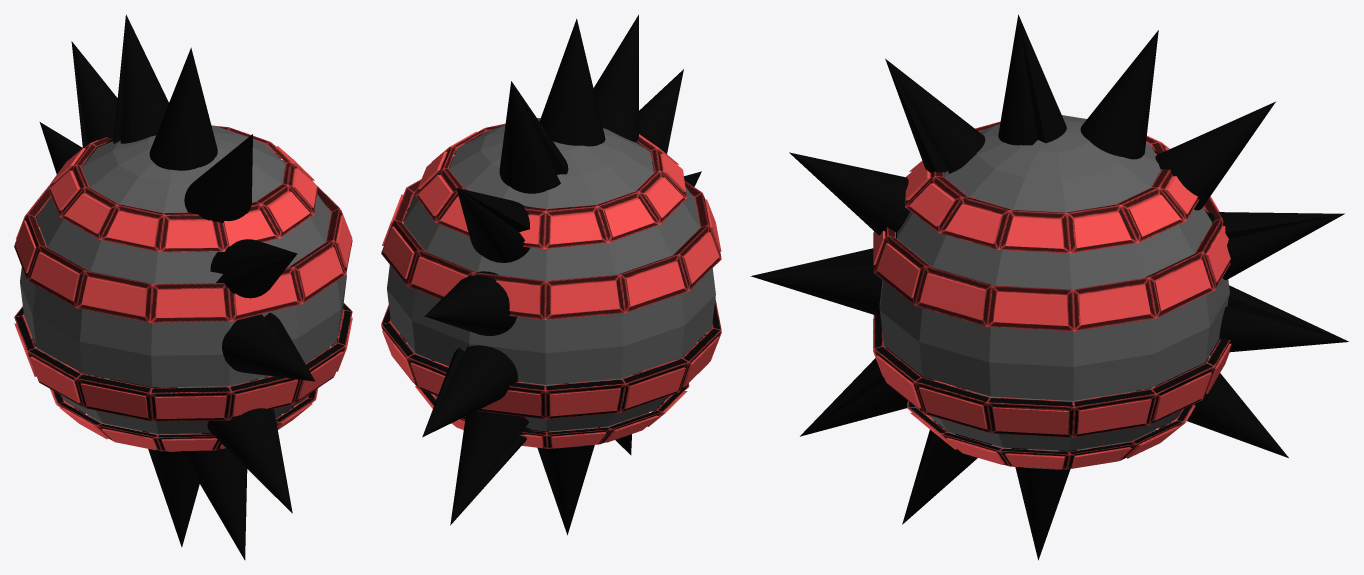
Rendered from Roller.fbx.
The picture shows the model from 3 angles, left to right: view 1: azimuth 30°, elevation 25°; view 2: azimuth 150°, elevation 25°; view 3: azimuth 270°, elevation 25°; orthographic projection. The views are drawn at different scales.
Parts seen in each view (by area): view 1: Sphere; view 2: Sphere; view 3: Sphere.
Part boxes in pixels (<box>): Sphere: <box>14,14,352,559</box>; Sphere: <box>381,14,721,535</box>; Sphere: <box>750,14,1348,560</box>.
Size of the model in its own units: 206 by 340 by 337.
